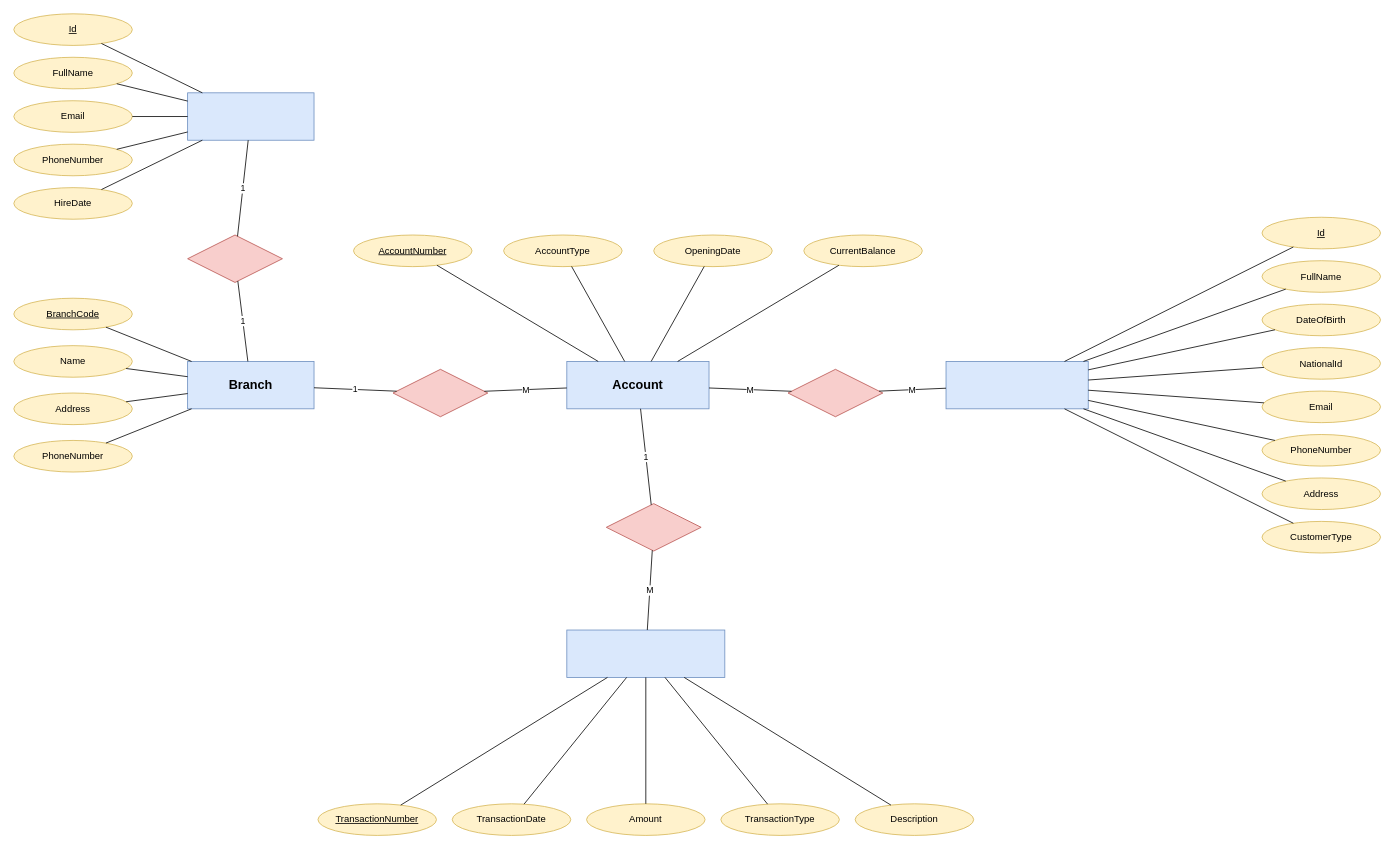
The diagram is 1394 pixels wide and 849 high, and some of its shapes have lost their labels. The shapes that lost their labels are listed below. From the top down, each one's box as (x1, y1, x2, y2) in pixels, then its label:
(187, 92, 314, 140): Manager
(187, 234, 282, 282): Has
(392, 369, 488, 417): Manages
(787, 369, 883, 417): Owns
(945, 361, 1088, 409): Customer
(606, 503, 701, 551): Records
(566, 629, 725, 677): Transaction
